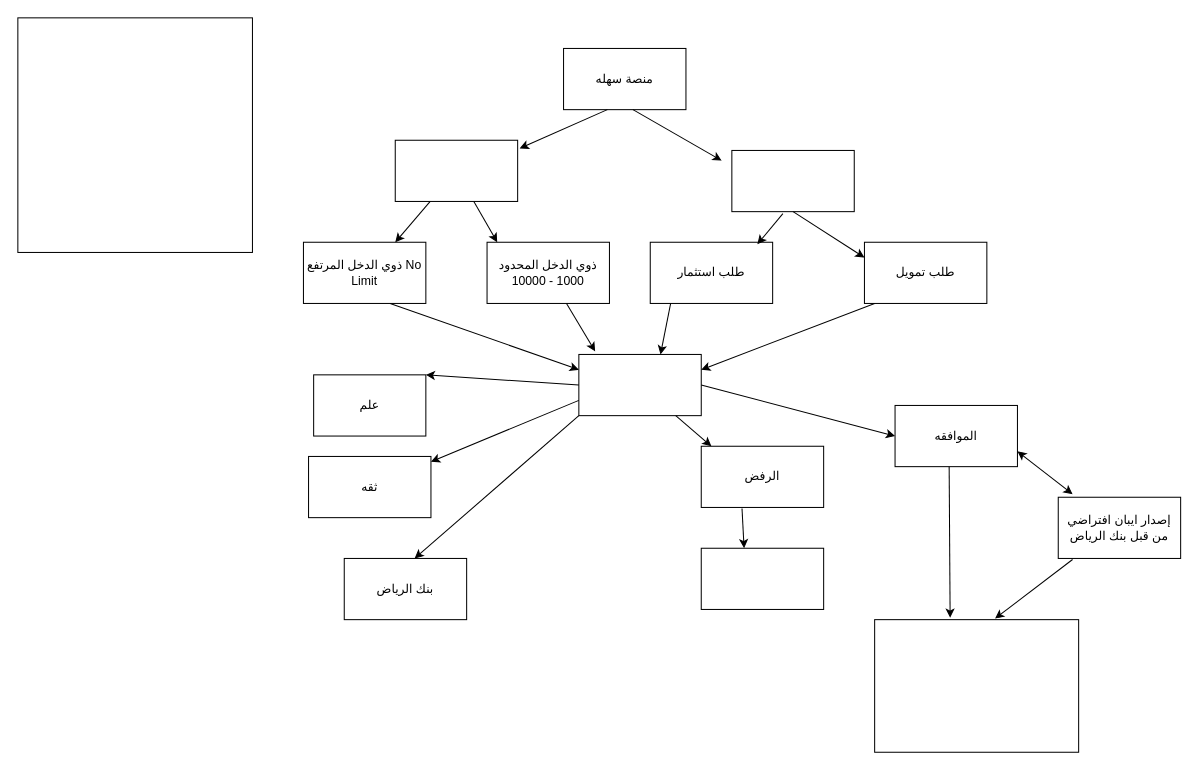
This 1199x770 diagram has some shape labels left out. The box of each missing label's shape, as (x1, y1, x2, y2) in pixels:
2 Admins from Sahlah: (578, 353, 701, 416)
استيفاء الشروط: (700, 547, 824, 609)
الشاشات شاشه للادمن شاشه لتسجيل الشركات شاشه لتسجيل المستثمر شاشه المنصه: (17, 17, 252, 252)
الشركات: (731, 149, 854, 212)
المستثمر: (394, 139, 518, 201)
عرض الداش بورد لجميع الفرص: (874, 619, 1079, 752)
